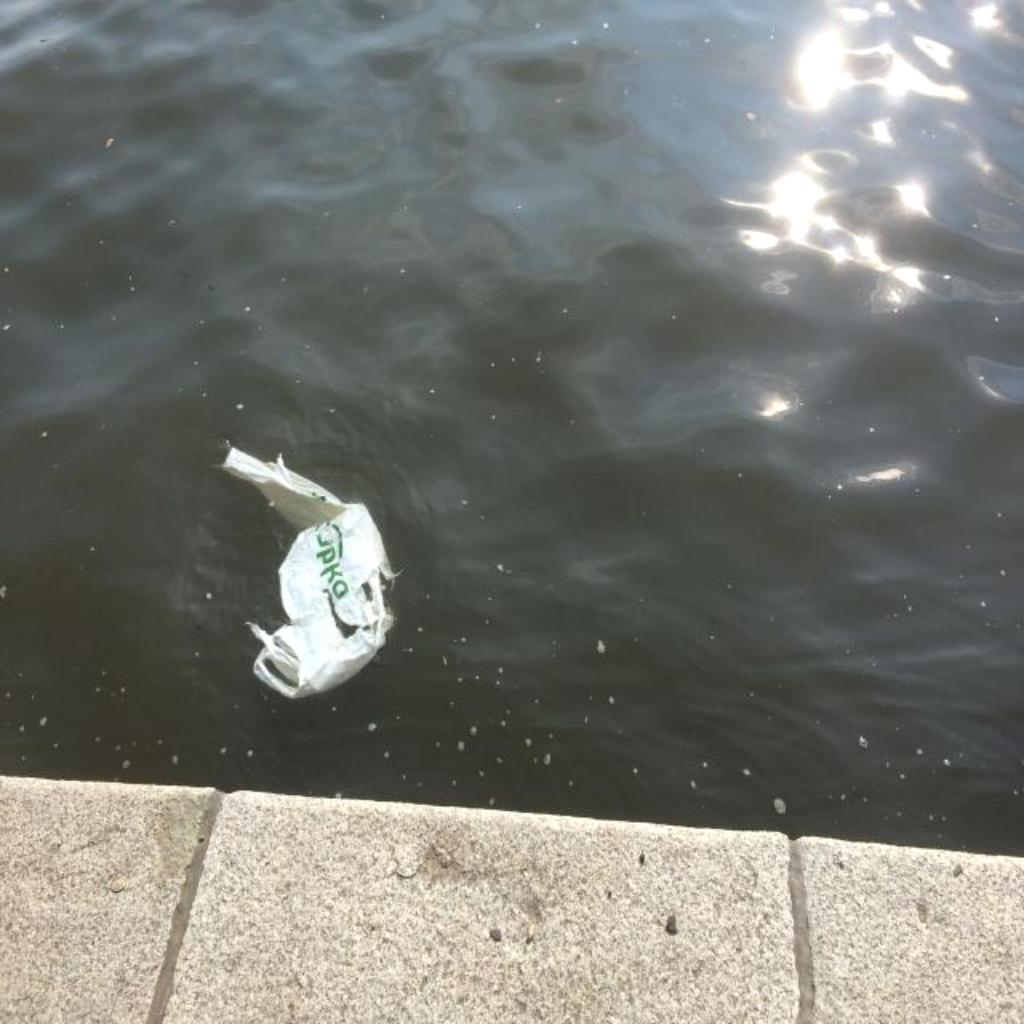garbage: (222, 453, 391, 710)
